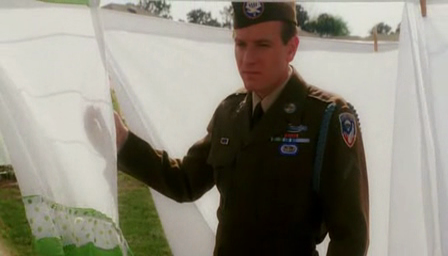face: (233, 31, 282, 91)
ms: (1, 1, 448, 256)
person: (84, 1, 370, 256)
